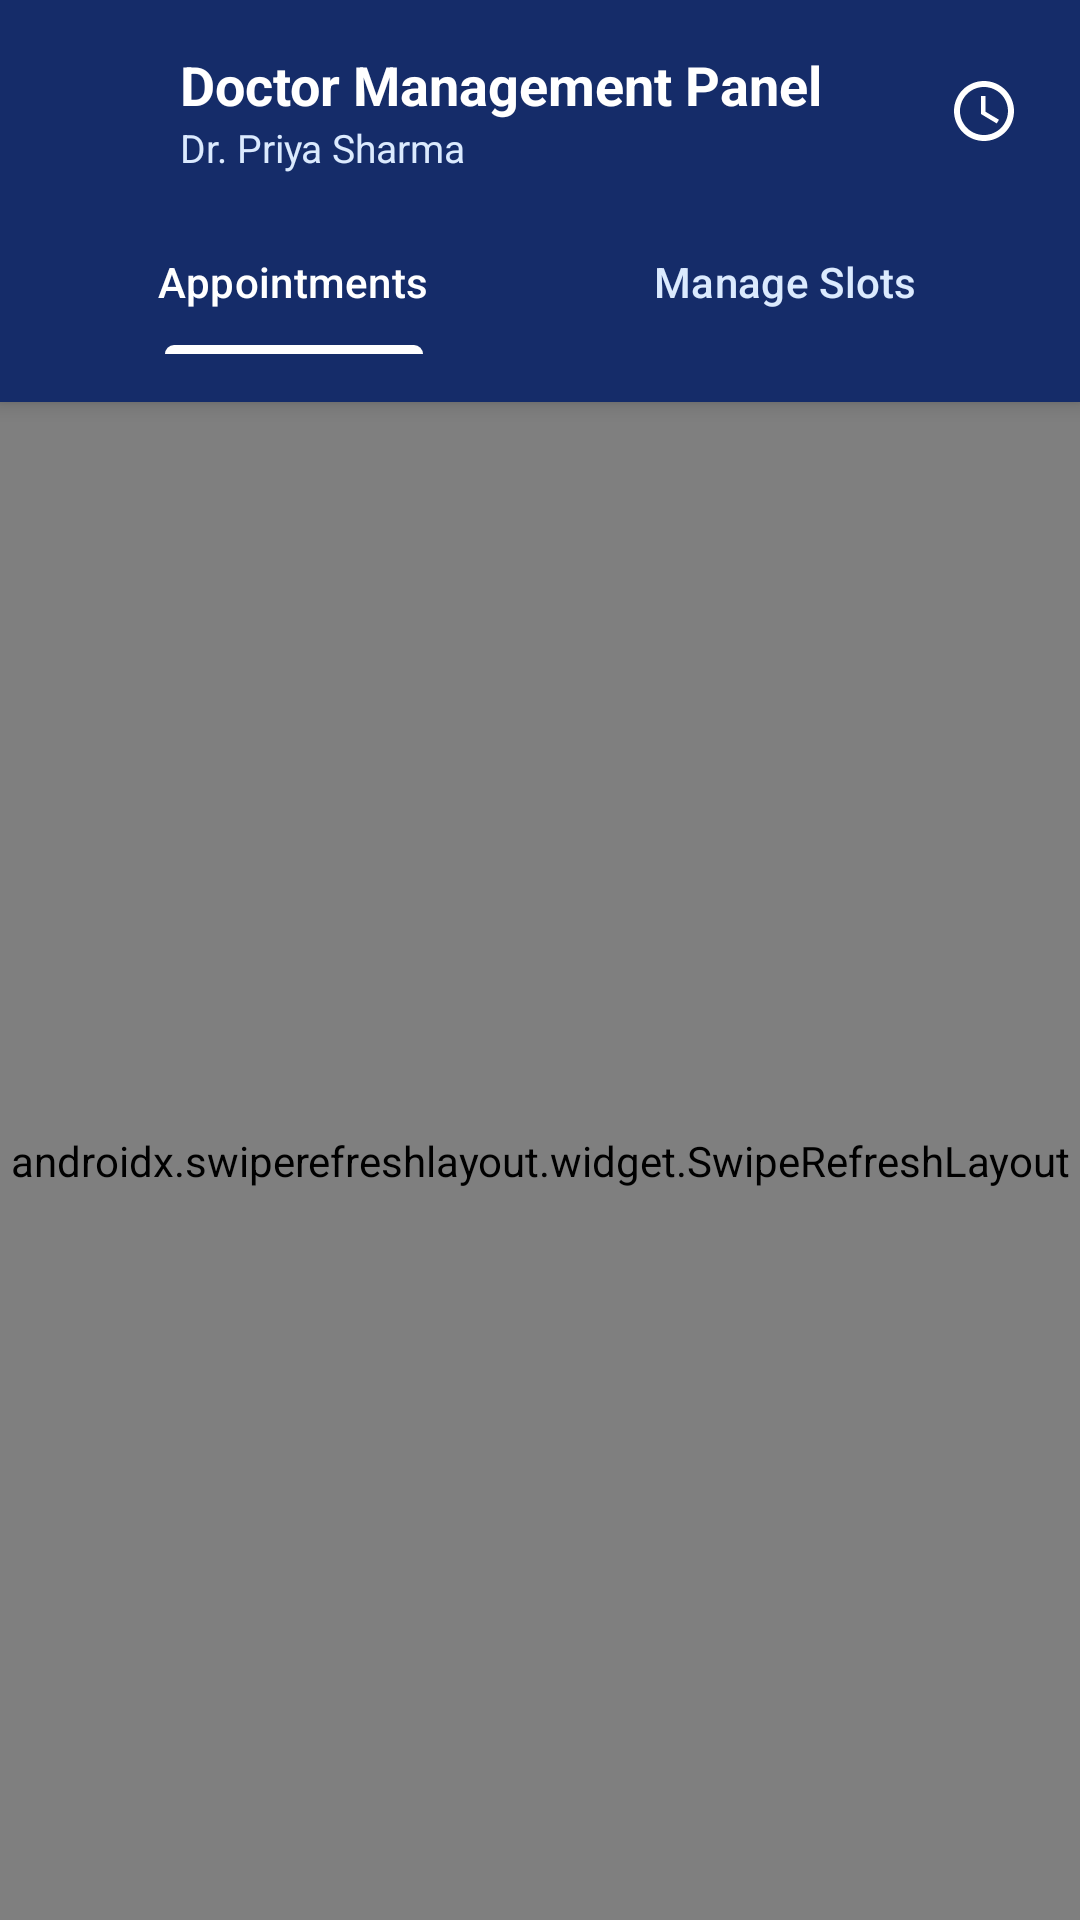

Where to tap for icons on this 1080 x 1920 app screen, as (x=x, y=y):
clock: (x=984, y=111)
